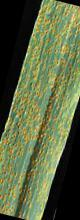Wheat: (15, 7, 76, 122), (4, 109, 63, 205)
